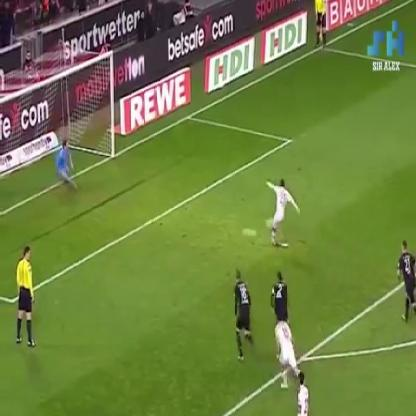penalty kick: (19, 67, 328, 250)
